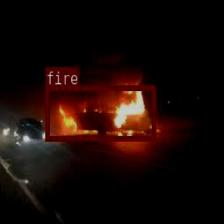fire: (46, 85, 154, 141)
